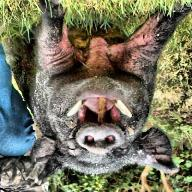boar: (18, 0, 192, 188)
